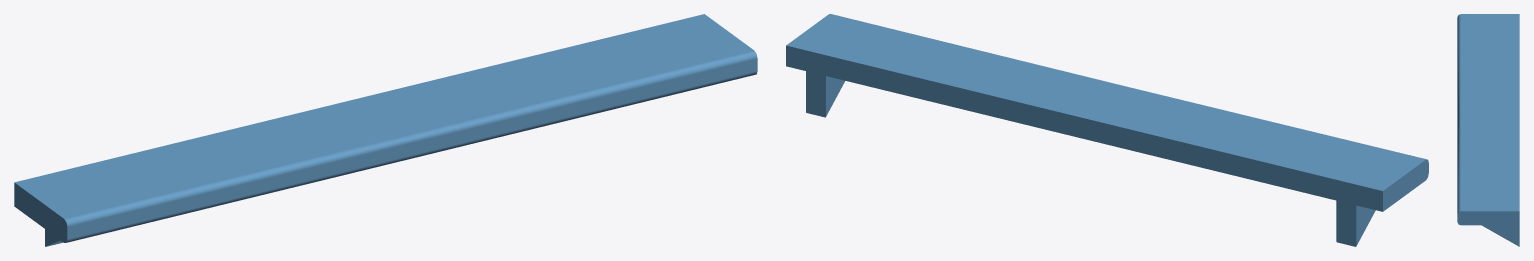
File: Finalized_SpiceRackl_KJ.FBX
The picture shows the model from 3 angles, left to right: view 1: azimuth 30°, elevation 25°; view 2: azimuth 150°, elevation 25°; view 3: azimuth 270°, elevation 25°; orthographic projection. The views are drawn at different scales.
Visible parts, largest first — view 1: Object_8; view 2: Object_8, Object_4, Object_7; view 3: Object_8, Object_7.
Part boxes in pixels (x1=…): Object_8: x1=14, y1=14, x2=757, y2=242; Object_8: x1=786, y1=14, x2=1428, y2=211; Object_4: x1=1336, y1=200, x2=1375, y2=246; Object_7: x1=806, y1=71, x2=844, y2=117; Object_8: x1=1457, y1=14, x2=1519, y2=225; Object_7: x1=1482, y1=225, x2=1519, y2=246.
Size of the model in its own units: 5.91 by 0.5906 by 0.7874.
